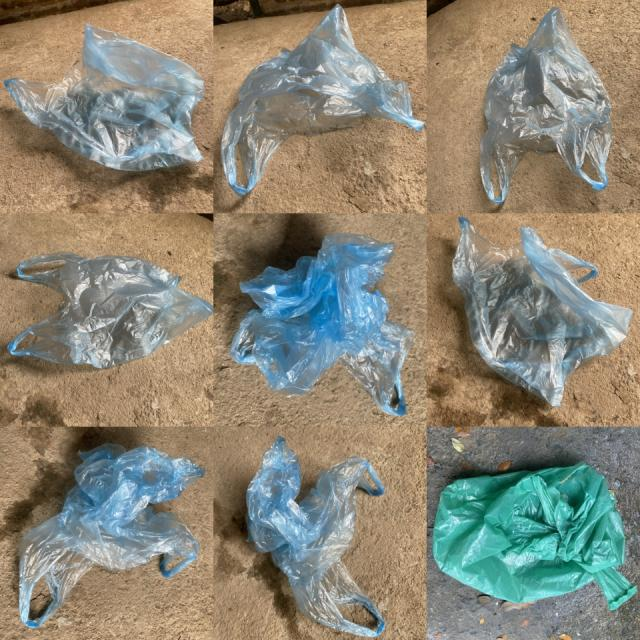Single-layer Plastic: (221, 5, 424, 196), (20, 444, 205, 628), (452, 218, 632, 406), (229, 234, 412, 415), (432, 462, 635, 608), (5, 25, 204, 171), (246, 436, 385, 637), (480, 8, 611, 202), (9, 252, 212, 368)
